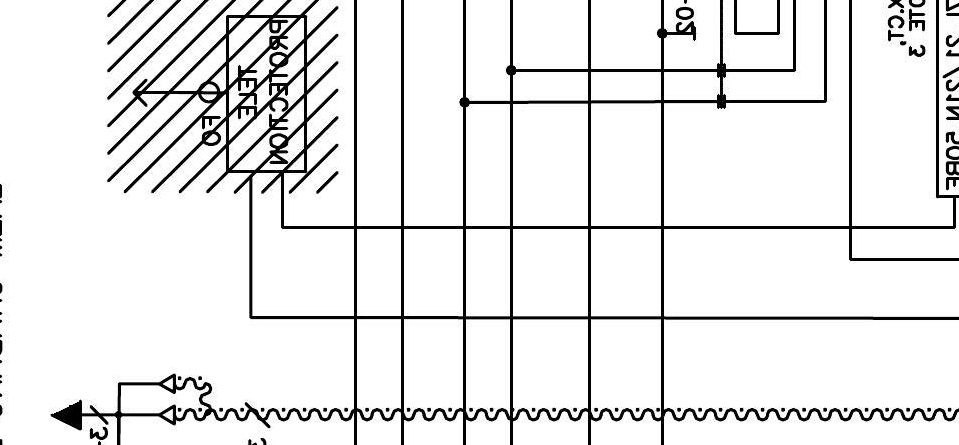tele_protection: (223, 12, 310, 176)
terminator_double: (117, 373, 178, 427)
